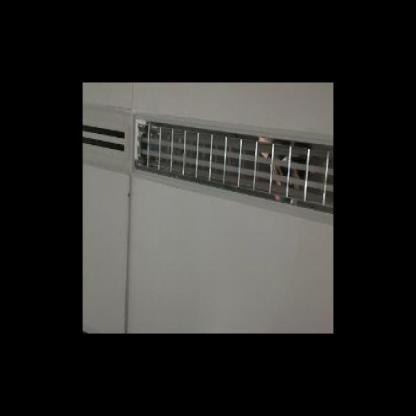light_off: (132, 108, 332, 219)
